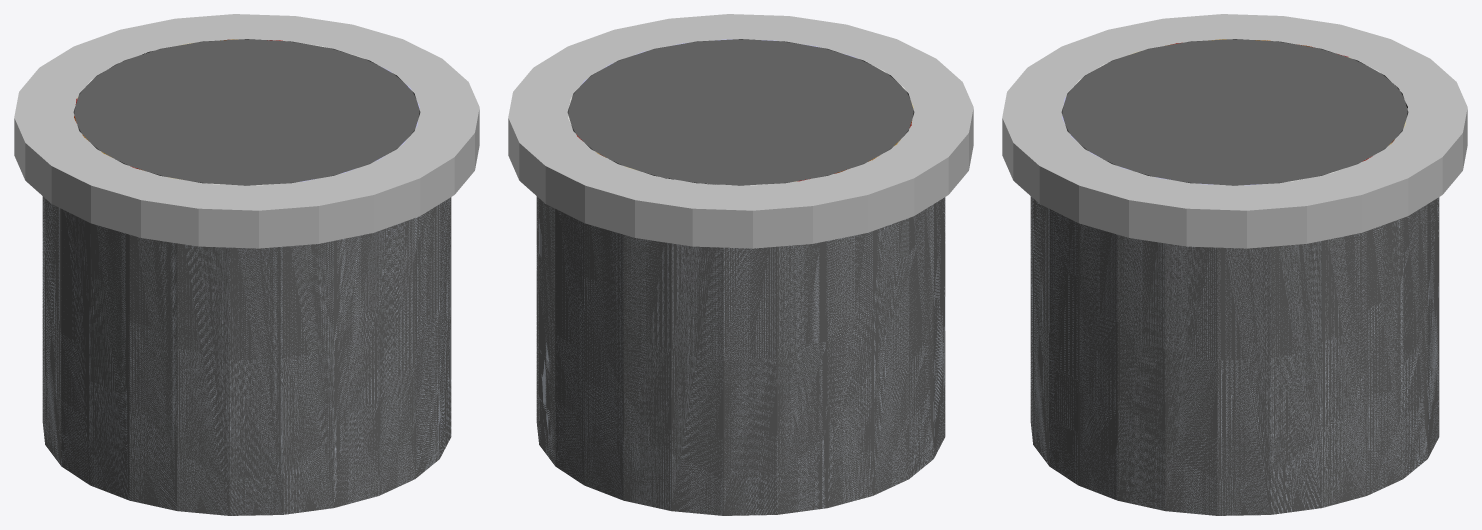
The picture shows the model from 3 angles, left to right: view 1: azimuth 30°, elevation 25°; view 2: azimuth 150°, elevation 25°; view 3: azimuth 270°, elevation 25°; orthographic projection.
Parts seen in each view (by area): view 1: mesh1_mesh1-geometry, mesh2_mesh2-geometry; view 2: mesh1_mesh1-geometry, mesh2_mesh2-geometry; view 3: mesh1_mesh1-geometry, mesh2_mesh2-geometry.
Boxes of the visible parts, bbox=[...] form: mesh1_mesh1-geometry: bbox=[42, 110, 451, 515]; mesh2_mesh2-geometry: bbox=[14, 14, 479, 248]; mesh1_mesh1-geometry: bbox=[536, 110, 945, 515]; mesh2_mesh2-geometry: bbox=[508, 14, 973, 248]; mesh1_mesh1-geometry: bbox=[1030, 110, 1439, 515]; mesh2_mesh2-geometry: bbox=[1002, 14, 1467, 248].
Bounding box in the file's own units: 0.6243 × 0.4695 × 0.6243.
